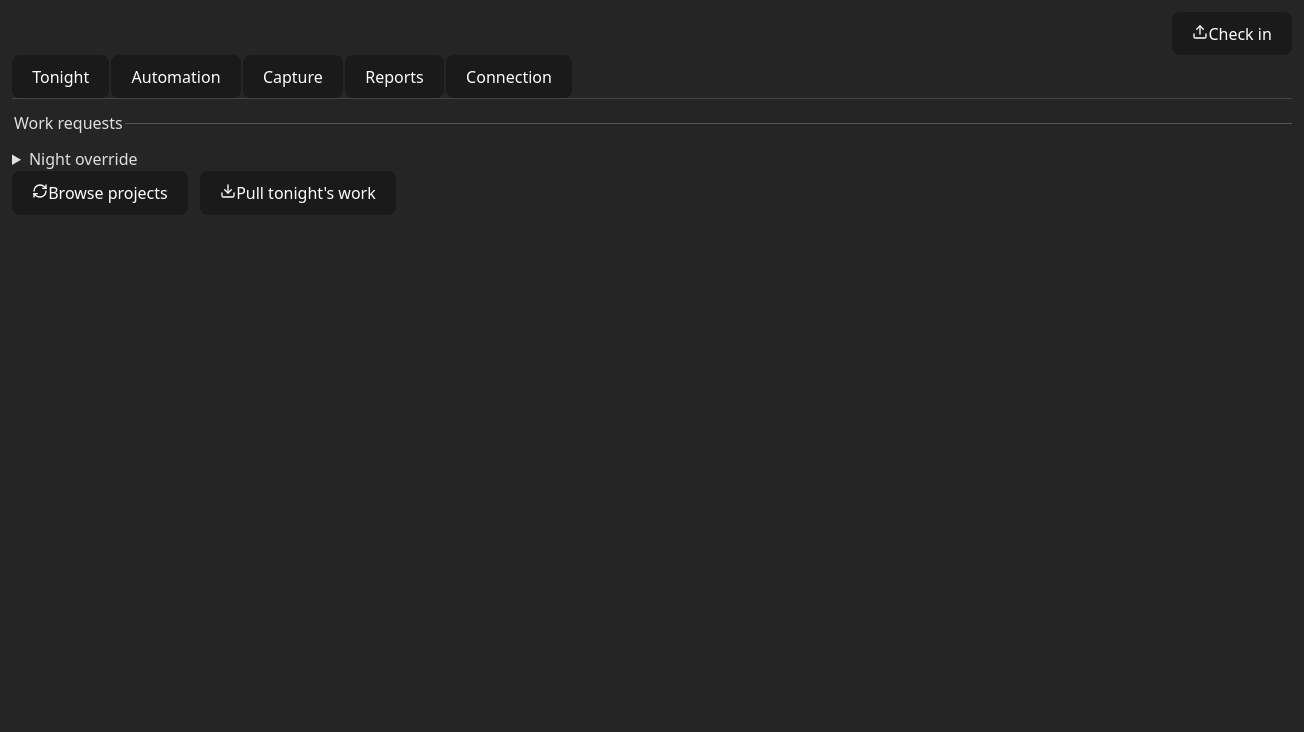
Test: Collaboration work transfer › makes a newly joined project immediately available to automation without another browse
Click the button "Browse projects". click: (100, 193)
box: 12,171 -> 188,215
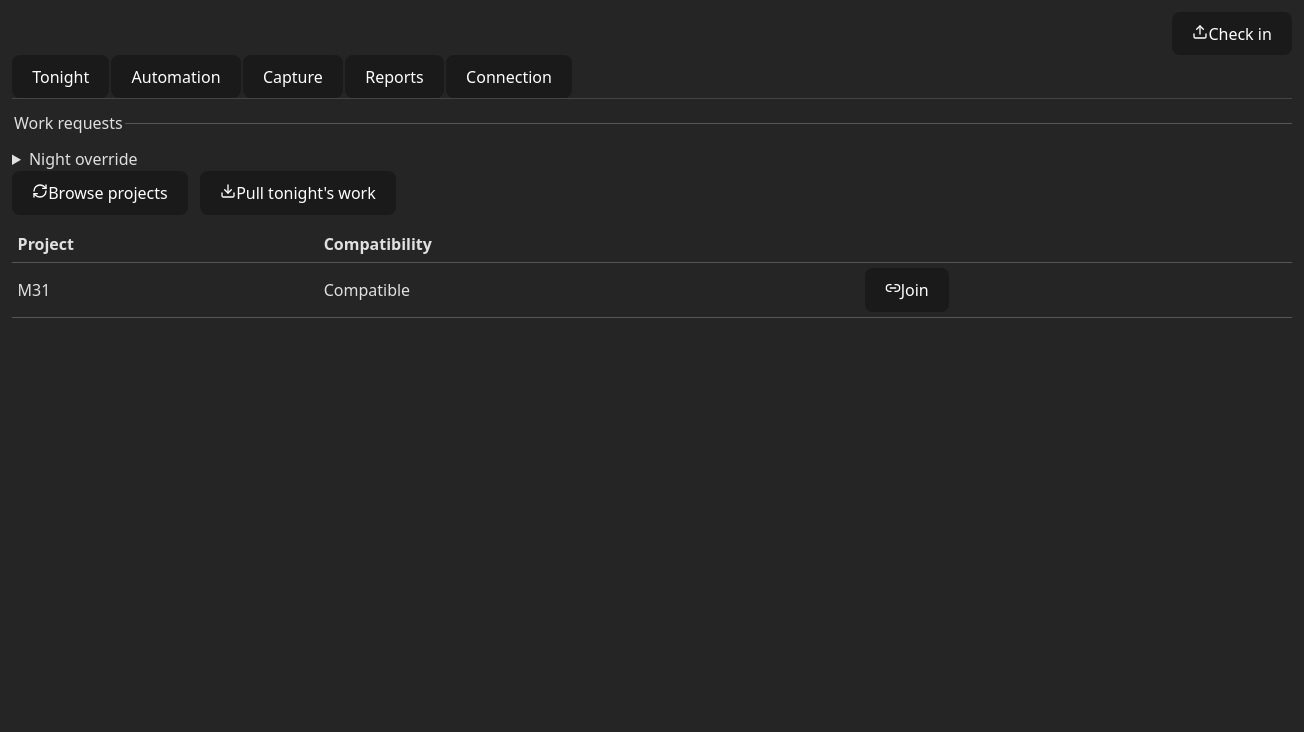
Click the button "Join". click: (907, 290)
box: 864,268 -> 949,312
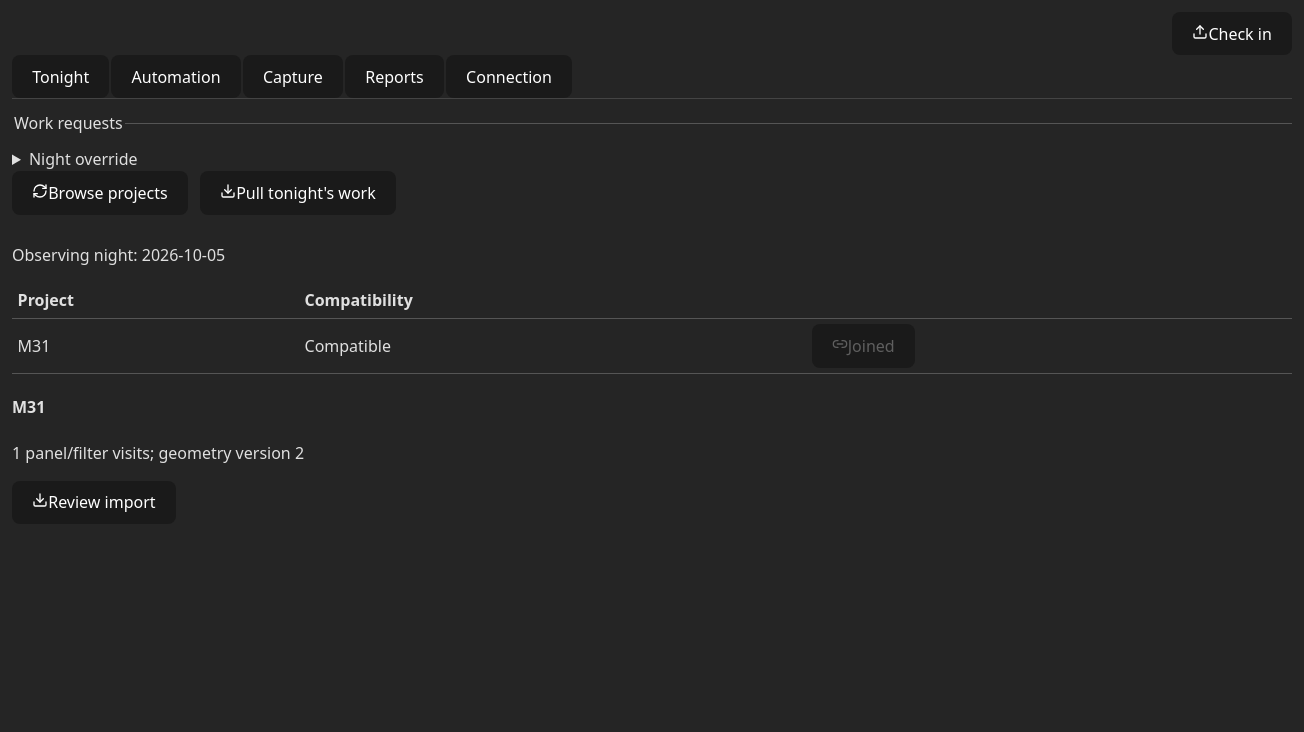
Expected: the button "Joined" is disabled, 812,324 -> 915,368
Click the tab "Automation". click: (176, 77)
box: 111,55 -> 241,98
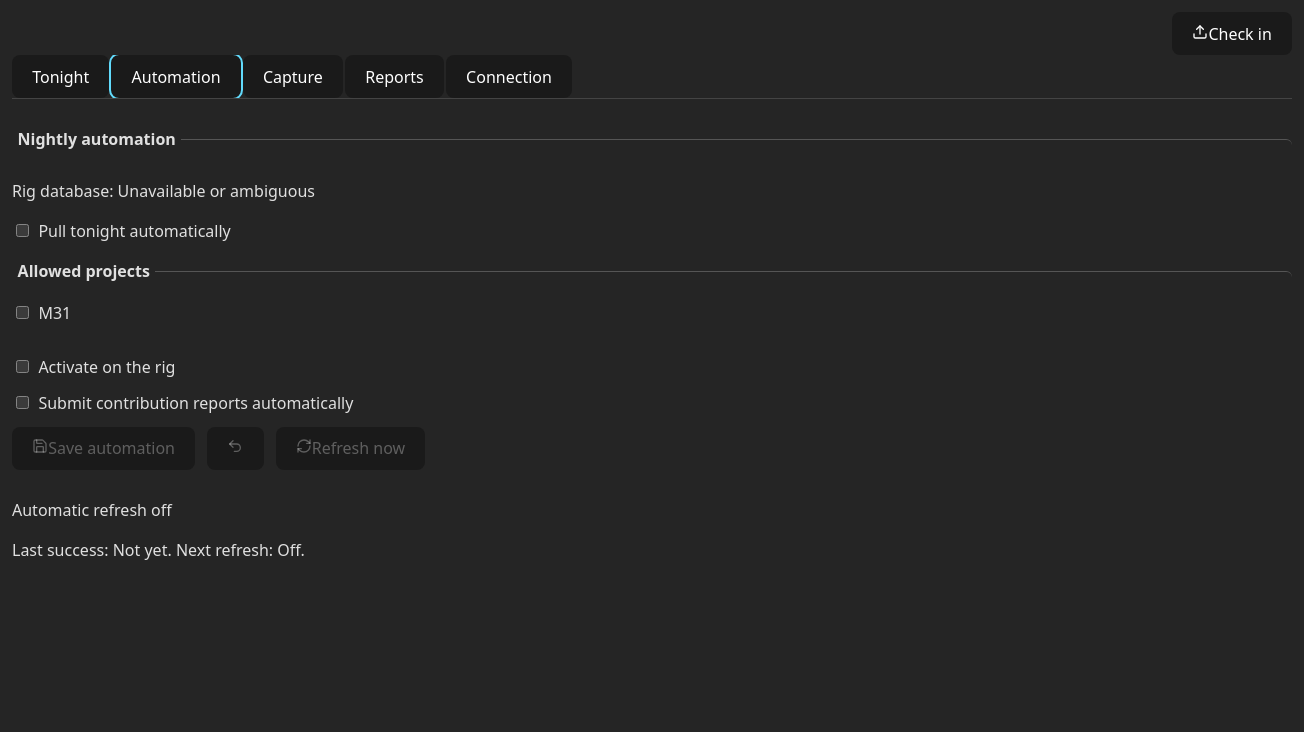
Expected: the checkbox labelled "M31" is not checked, 16,306 -> 29,319
